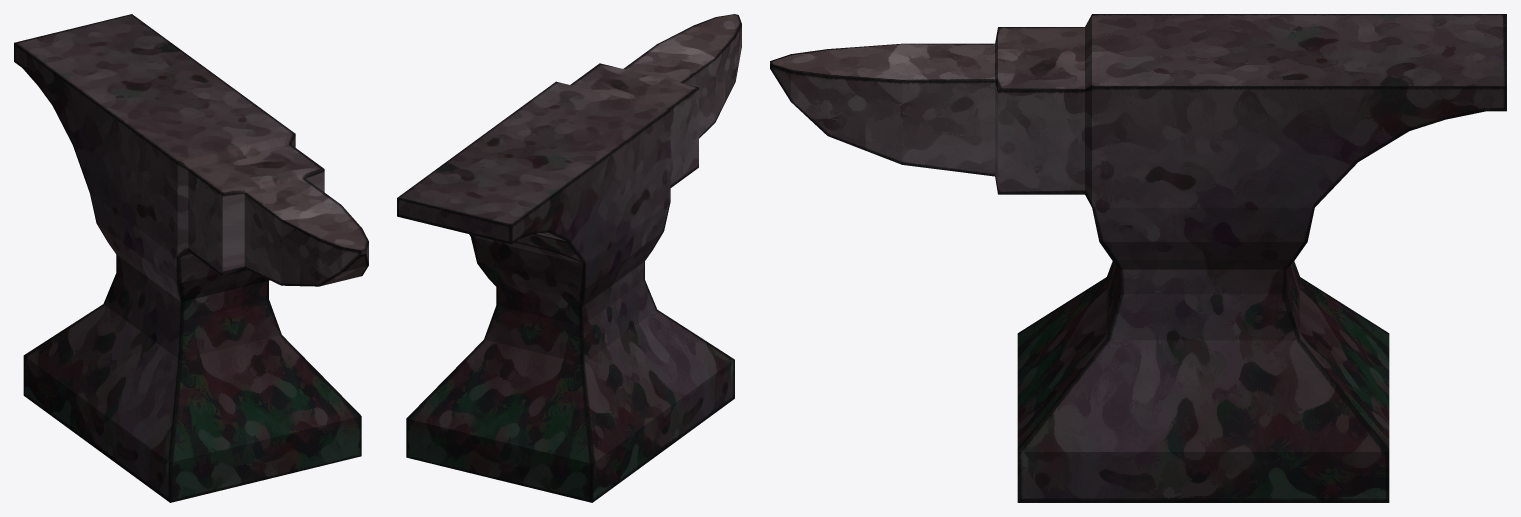
The model's file is anvil.fbx.
The picture shows the model from 3 angles, left to right: view 1: azimuth 30°, elevation 25°; view 2: azimuth 150°, elevation 25°; view 3: azimuth 270°, elevation 25°; orthographic projection. The views are drawn at different scales.
Parts seen in each view (by area): view 1: forge; view 2: forge; view 3: forge.
Part boxes in pixels (bbox=[...]): forge: bbox=[14, 14, 368, 502]; forge: bbox=[397, 14, 741, 502]; forge: bbox=[770, 14, 1506, 502].
Bounding box in the file's own units: 310 × 481 × 816.
Materials: 1 (1 with a texture image).
